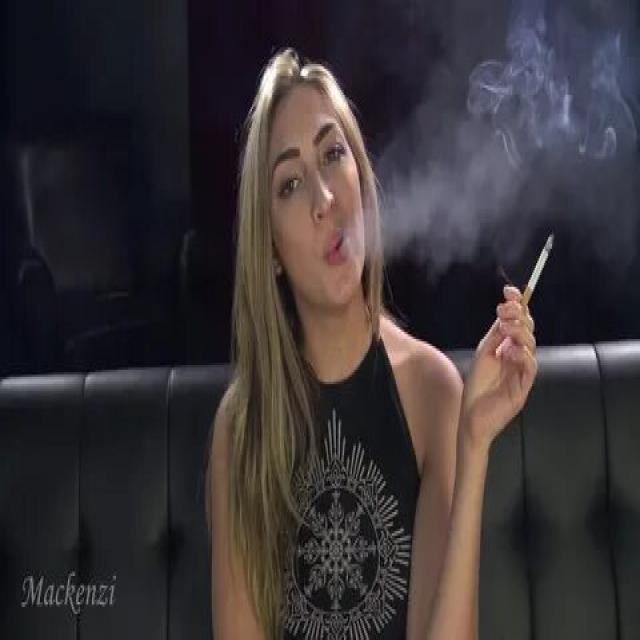smoke: (514, 228, 562, 315)
